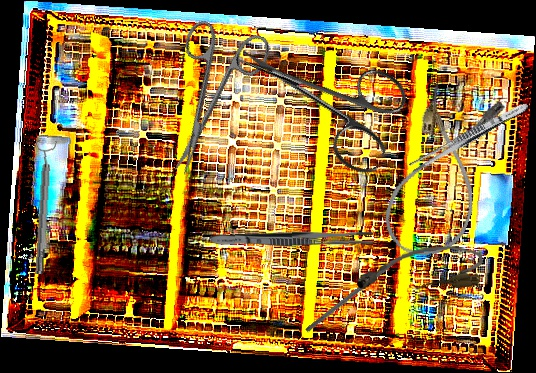Cannula: (375, 77, 511, 270), (354, 242, 485, 297)
Dressing Forceps: (408, 99, 531, 175), (210, 229, 374, 248)
Fixation Ring: (27, 139, 59, 275)
Hook Surgical: (304, 244, 418, 334)
Iris Scissors: (217, 12, 417, 179), (138, 10, 275, 188)
